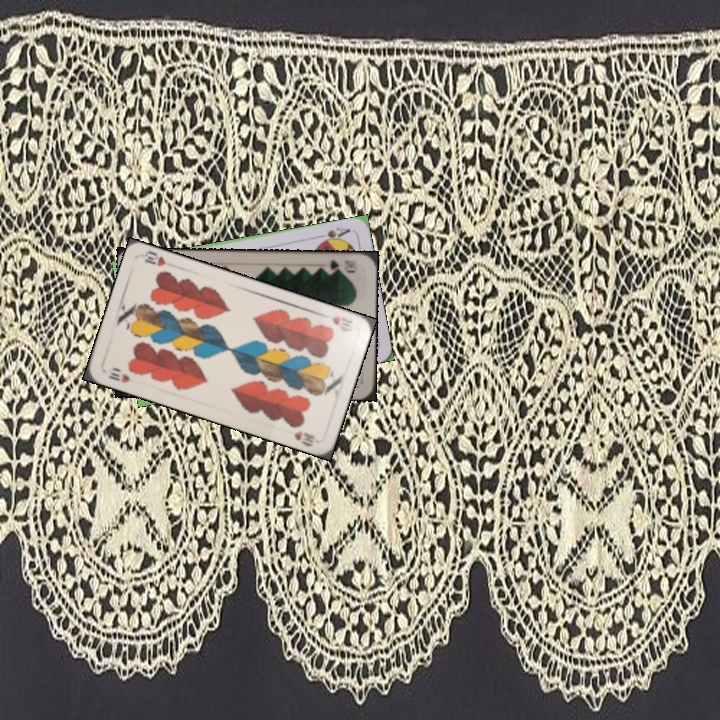G10: (325, 256, 359, 274)
H10: (104, 368, 132, 386), (328, 312, 355, 330)
SA: (314, 223, 353, 246)
